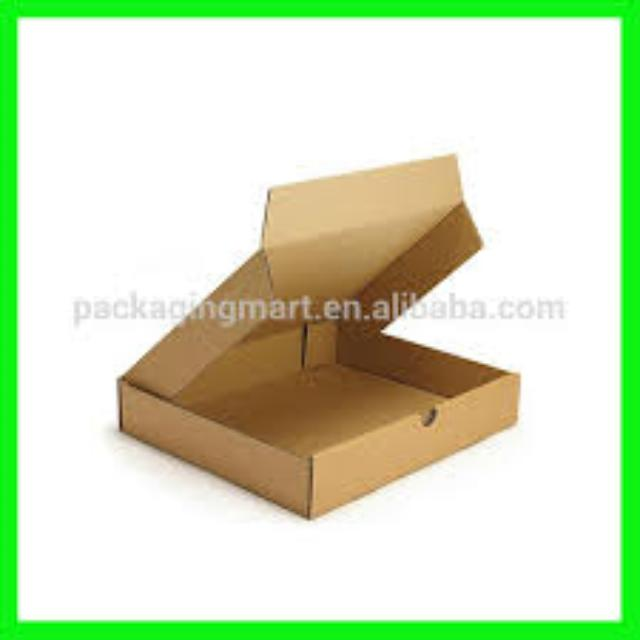cardboard paper: (117, 154, 515, 512)
